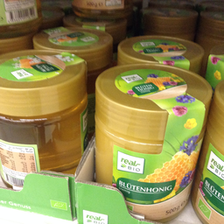honey: (92, 63, 215, 223)
